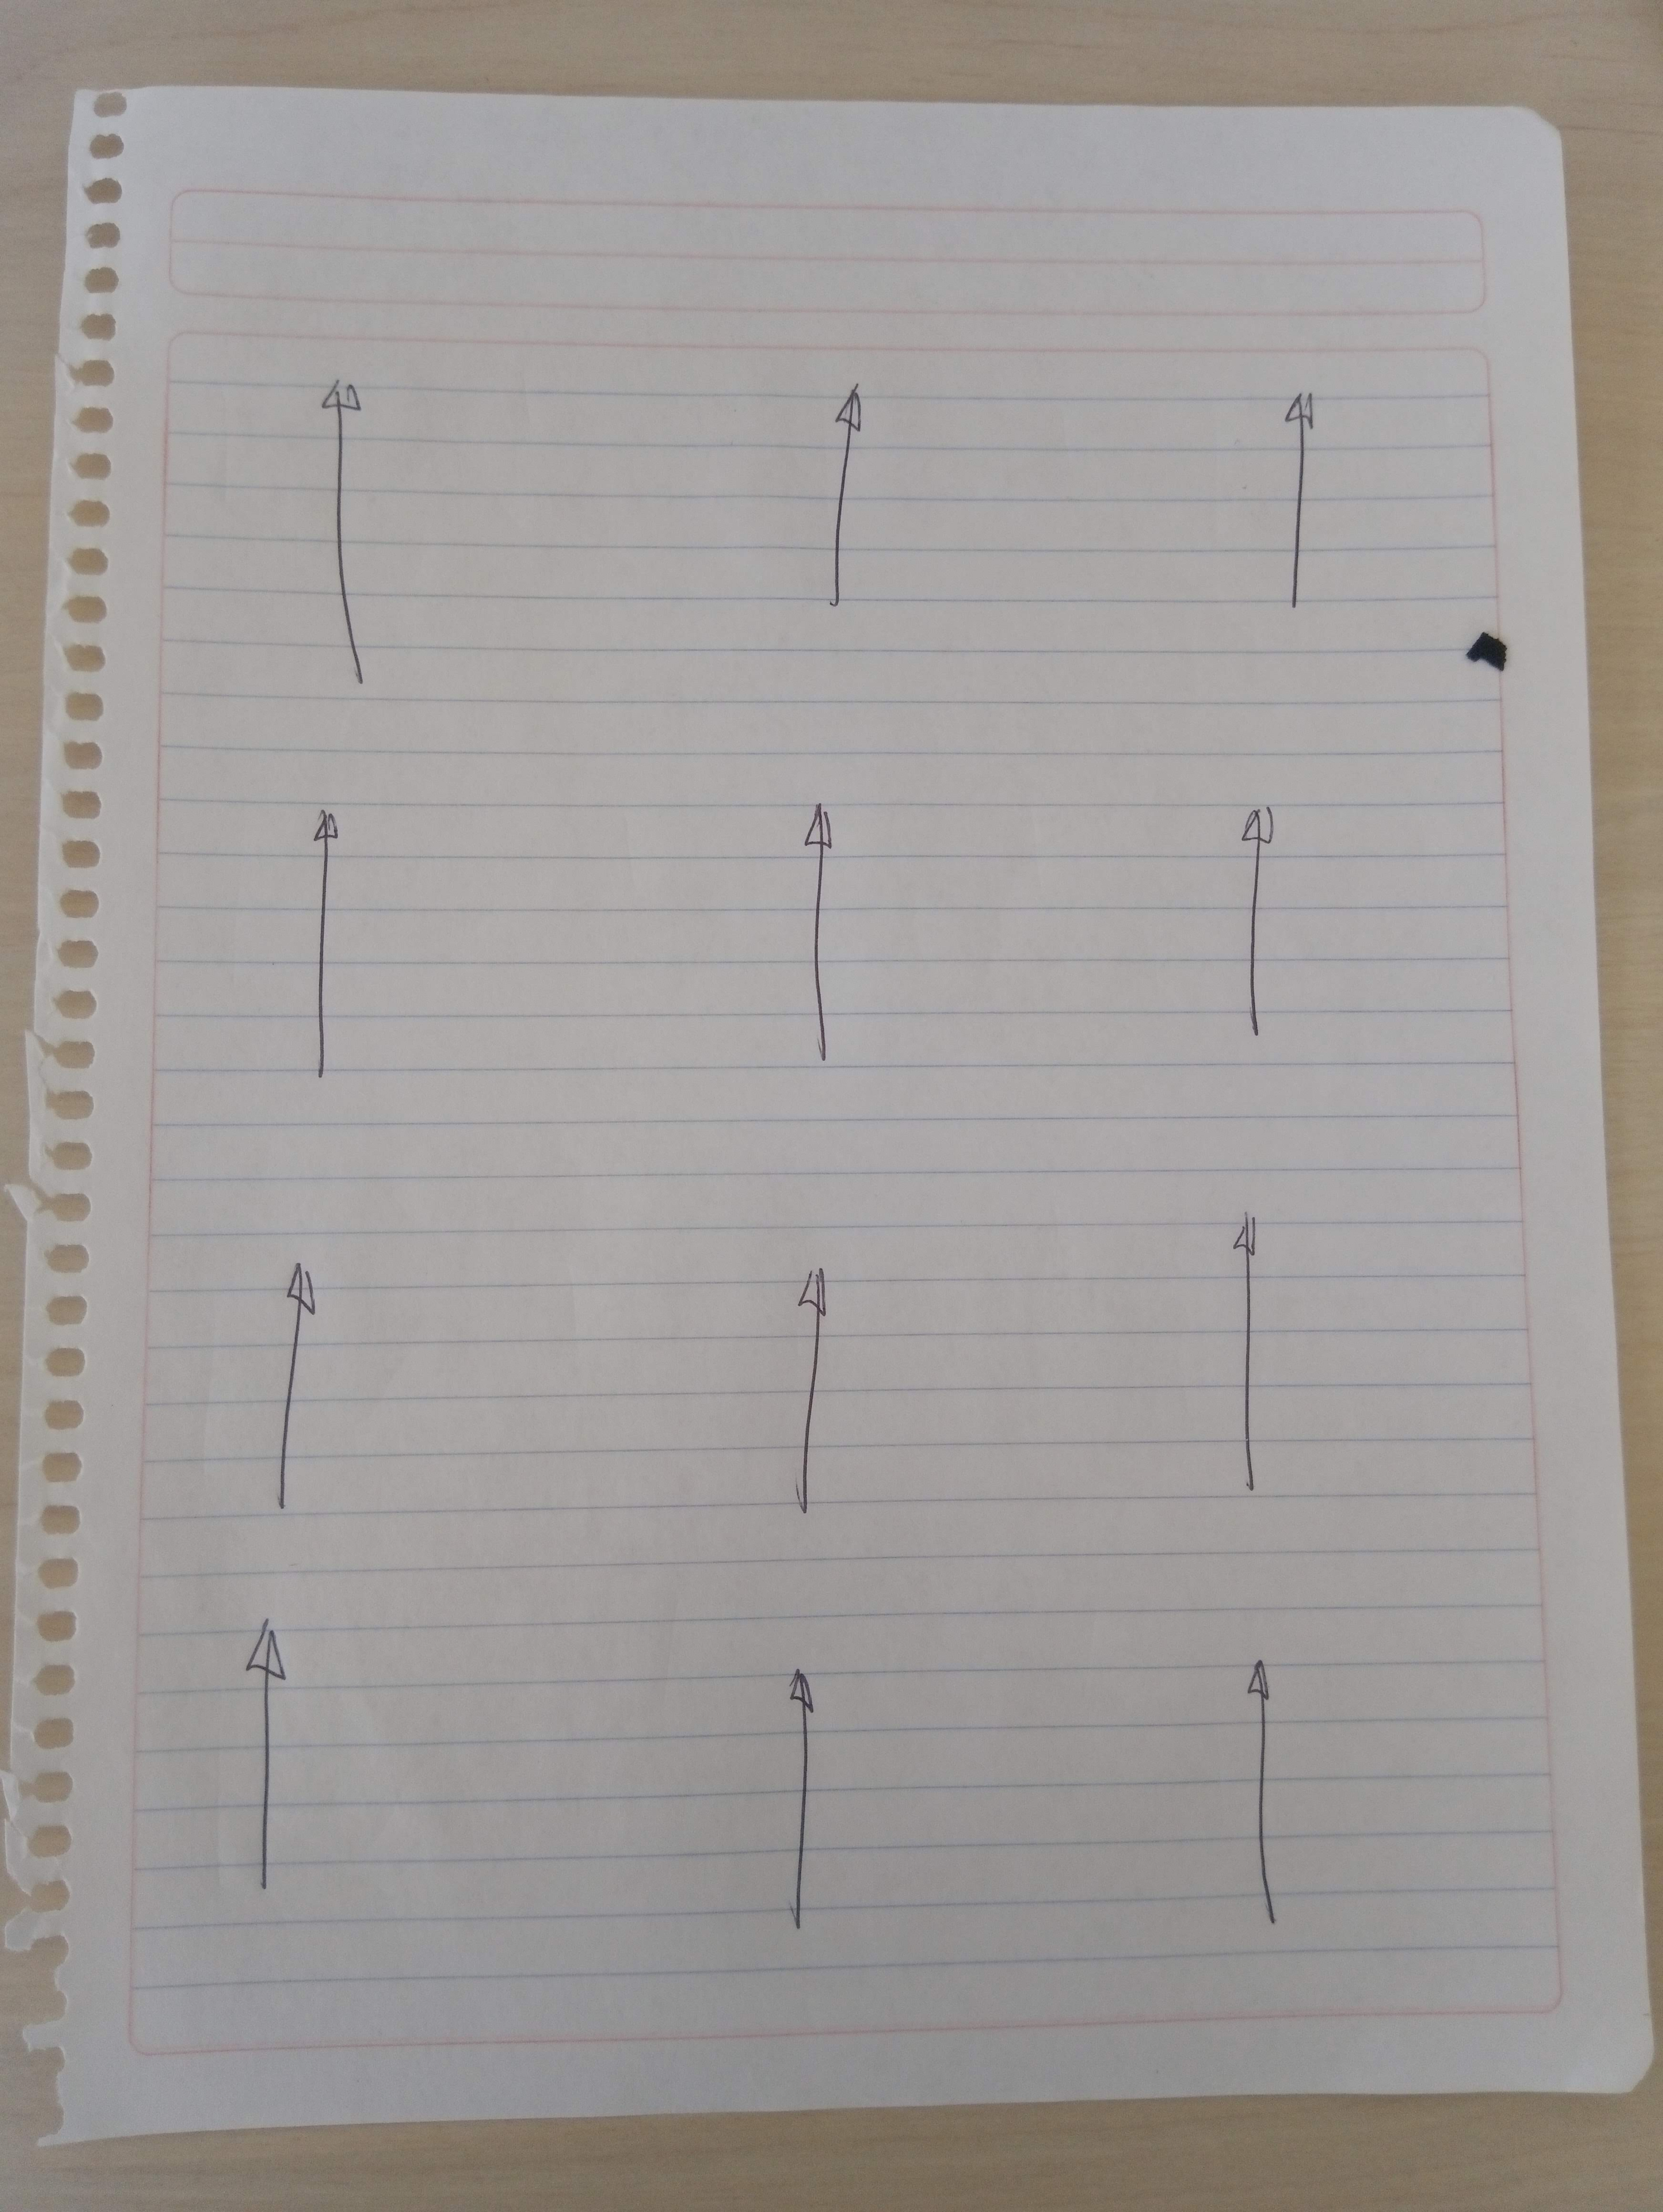arrow_line_up: (293, 775, 424, 1119), (297, 340, 398, 705), (1207, 1205, 1314, 1547), (218, 1615, 320, 1938), (1242, 1639, 1347, 1948), (765, 787, 854, 1088), (1247, 391, 1347, 655), (816, 391, 908, 663), (767, 1264, 856, 1542), (262, 1236, 339, 1545), (774, 1627, 840, 1964), (1225, 798, 1308, 1058)
